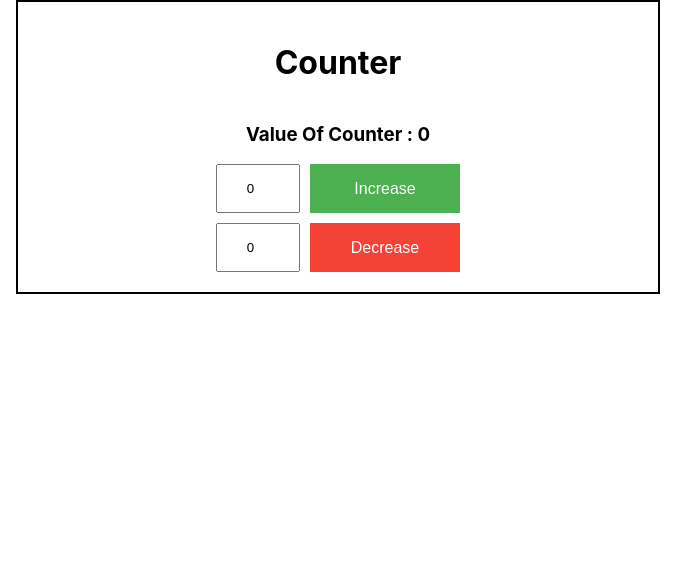
Scenario: counter Component › should delete logs
This screenshot has width=677, height=563.
Type "5" into the number field with test id "value_dec" at (258, 248), box [216,223,300,272]
Click the button with test id "button_dec" at (385, 248), box [310,223,460,272]
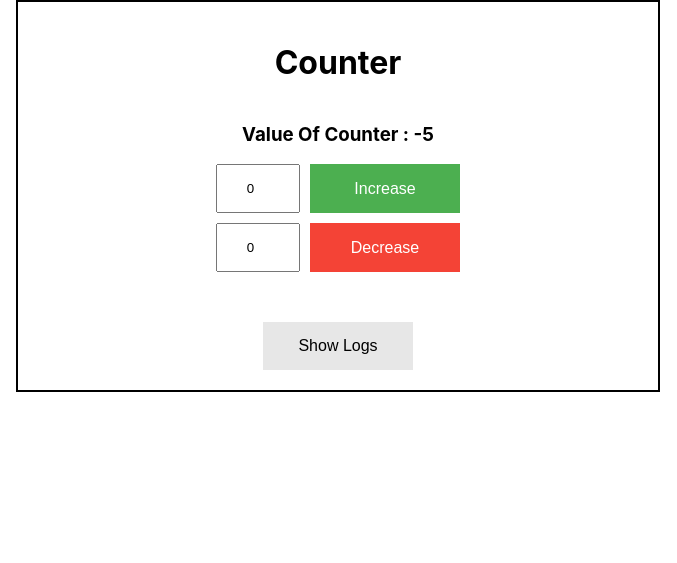
Type "5" into the number field with test id "value_dec" at (258, 248), box [216,223,300,272]
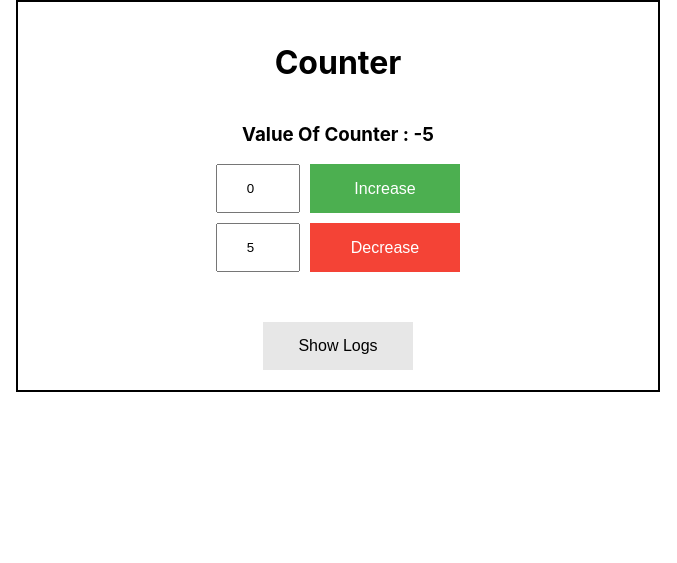
Click the button with test id "button_dec" at (385, 248), box [310,223,460,272]
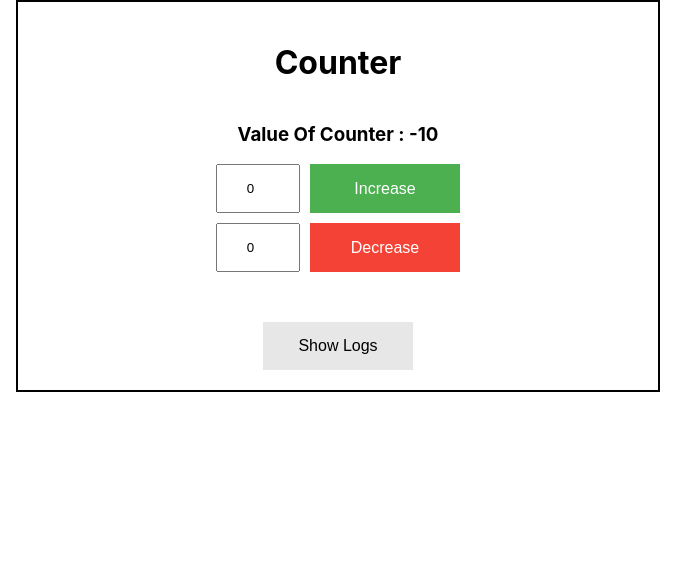
Click the button with test id "toggle-logs" at (338, 346), box [263,322,413,370]
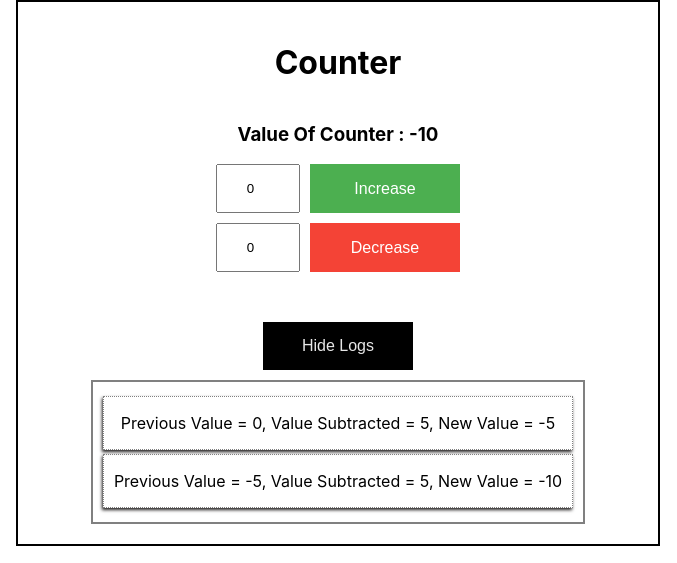
Click the 1st element with test id "log_info" at (338, 423), box [103,396,573,450]
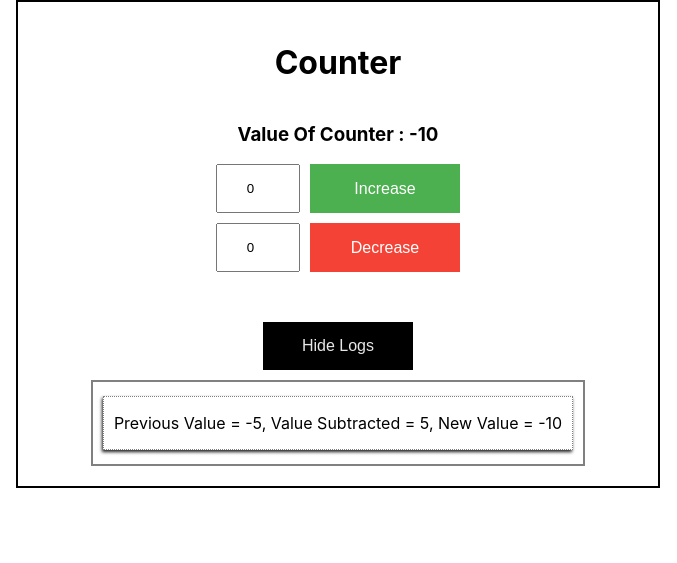
Click the element with test id "log_info" at (338, 423), box [103,396,573,450]
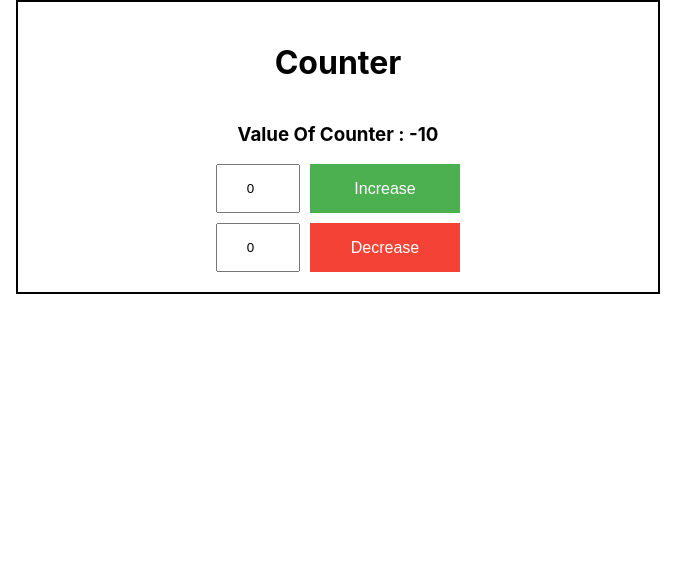
Check: the element with test id "log_info" is gone
